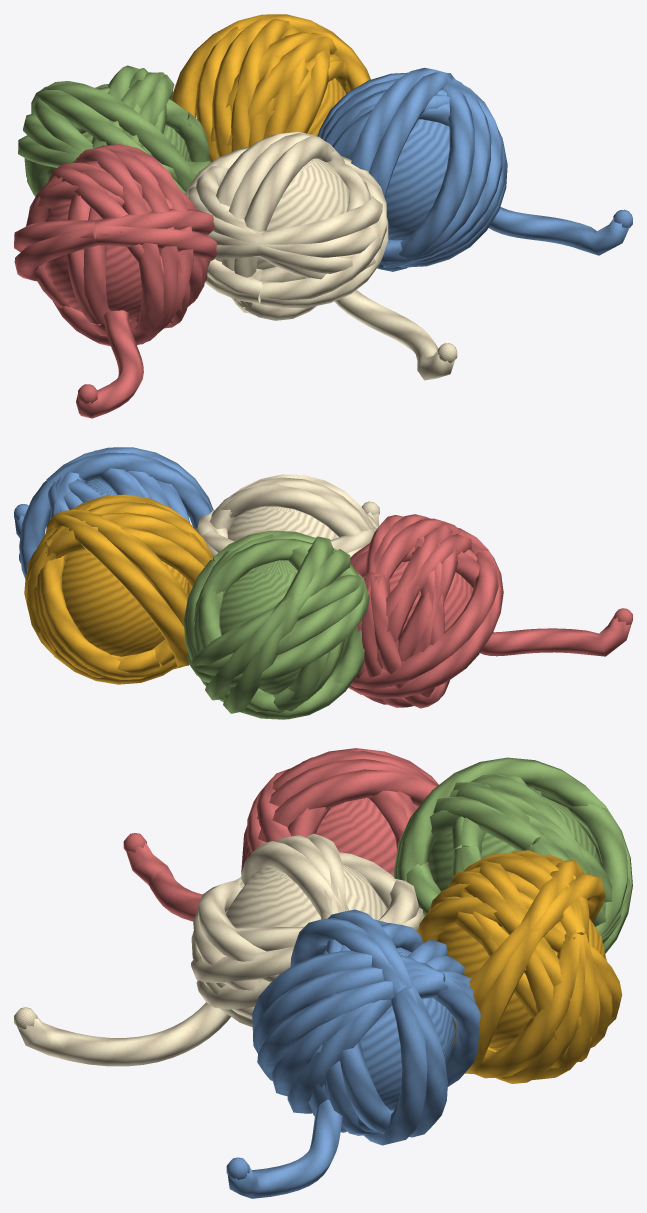
The model's file is yarn_balls.glb.
The picture shows the model from 3 angles, top to bottom: view 1: azimuth 30°, elevation 25°; view 2: azimuth 150°, elevation 25°; view 3: azimuth 270°, elevation 25°; orthographic projection. The views are drawn at different scales.
Visible parts, largest first — view 1: model; view 2: model; view 3: model.
Boxes of the visible parts, x1,y1,x2,y2 form: model: [14, 14, 632, 418]; model: [14, 447, 632, 719]; model: [14, 748, 632, 1198].
Bounding box in the file's own units: 0.6542 × 0.2134 × 0.5119.
Materials: 5 (5 with a texture image).
